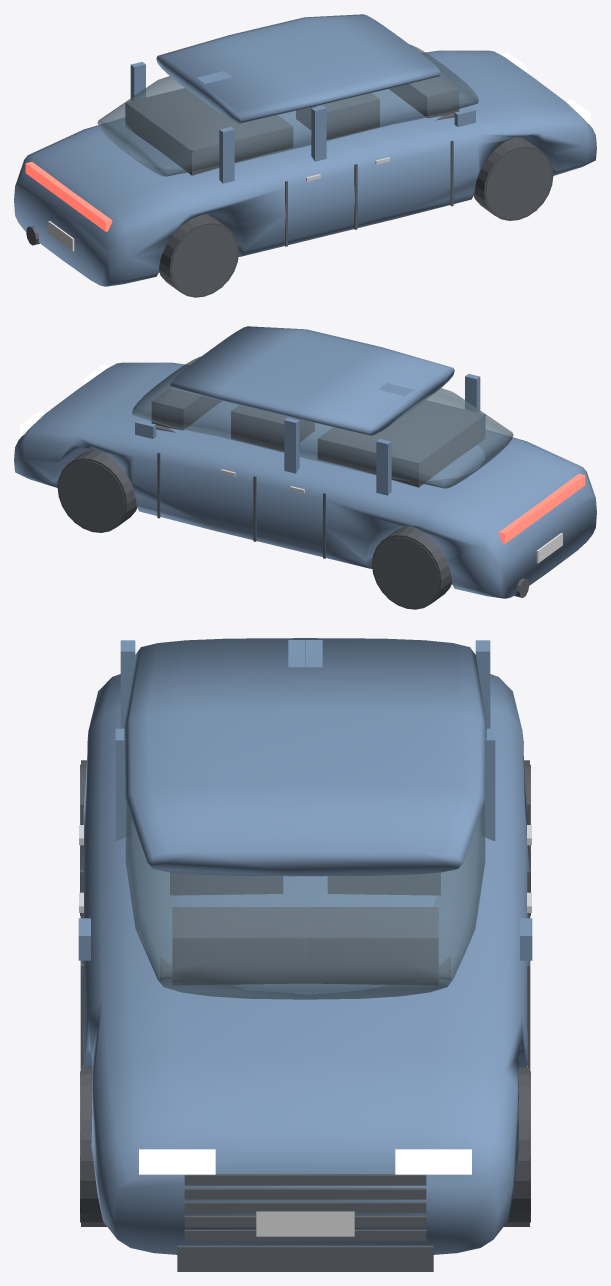
File: sedan.glb
3 renders of one model, top to bottom at view 1: azimuth 30°, elevation 25°; view 2: azimuth 150°, elevation 25°; view 3: azimuth 270°, elevation 25°, orthographic. The views are drawn at different scales.
Parts seen in each view (by area): view 1: VehicleSedan; view 2: VehicleSedan; view 3: VehicleSedan.
Boxes of the visible parts, box(x1,y1,x2,y2) form: VehicleSedan: box(14, 14, 596, 297); VehicleSedan: box(14, 326, 596, 609); VehicleSedan: box(78, 638, 532, 1271).
Bounding box in the file's own units: 0.461 × 0.145 × 0.184.
